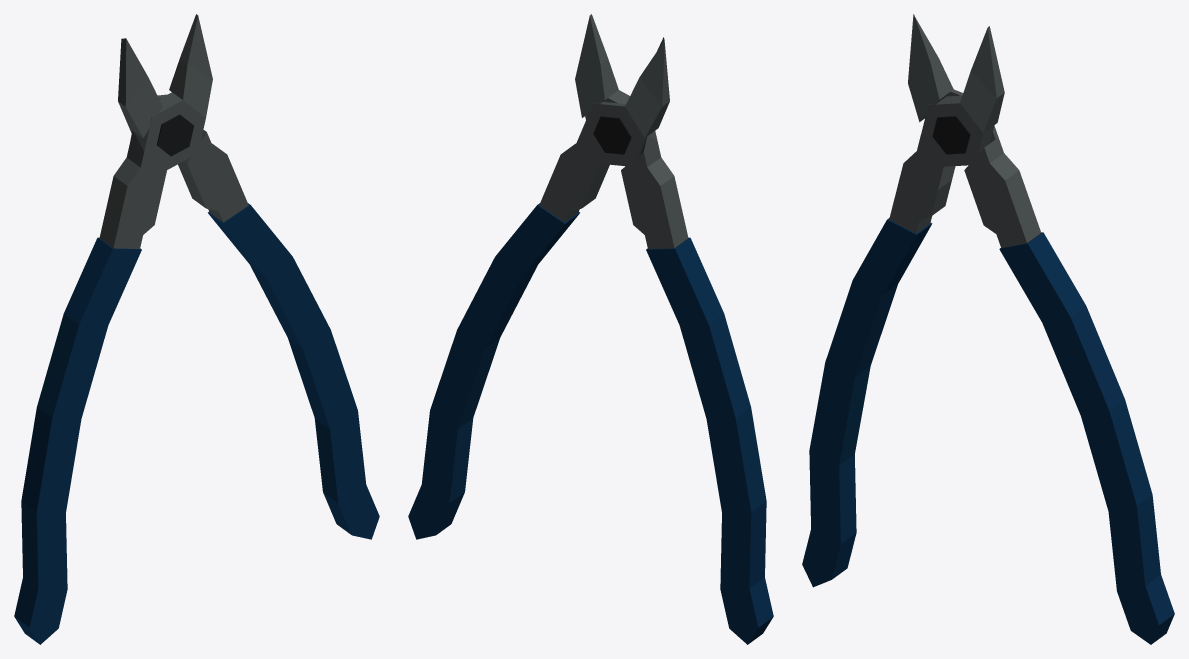
File: SM_Wire_Cutters.gltf
3 views of the same model, side by side, from view 1: azimuth 30°, elevation 25°; view 2: azimuth 150°, elevation 25°; view 3: azimuth 330°, elevation 25° (orthographic).
Visible parts, largest first — view 1: SM_Wire_Cutters, HOLDER_FOR_Wire_Cutters; view 2: SM_Wire_Cutters, HOLDER_FOR_Wire_Cutters; view 3: HOLDER_FOR_Wire_Cutters, SM_Wire_Cutters.
Boxes of the visible parts, <box> form: SM_Wire_Cutters: <box>14,14,212,644</box>; HOLDER_FOR_Wire_Cutters: <box>118,38,379,539</box>; SM_Wire_Cutters: <box>575,14,773,644</box>; HOLDER_FOR_Wire_Cutters: <box>408,37,669,539</box>; HOLDER_FOR_Wire_Cutters: <box>908,14,1174,644</box>; SM_Wire_Cutters: <box>802,26,1004,587</box>.
Bounding box in the file's own units: 0.1092 × 0.1741 × 0.00835.
